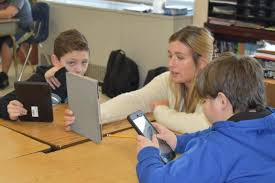Mobile-phone: (126, 110, 178, 164)
